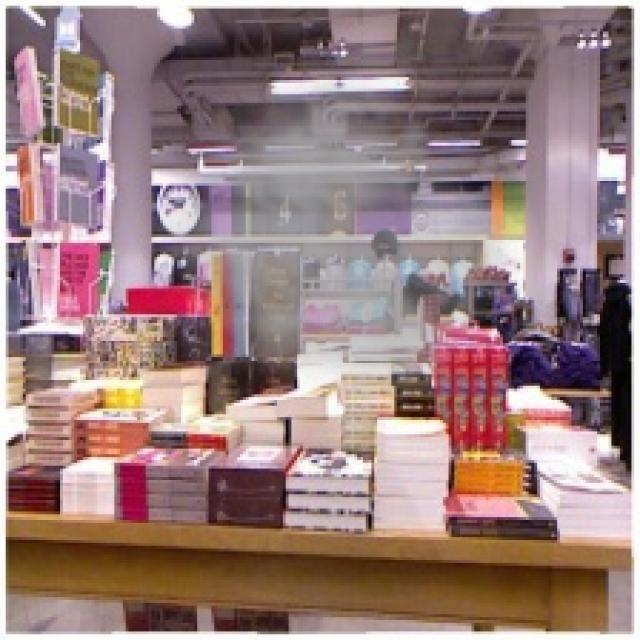Smoke: (140, 42, 534, 398)
